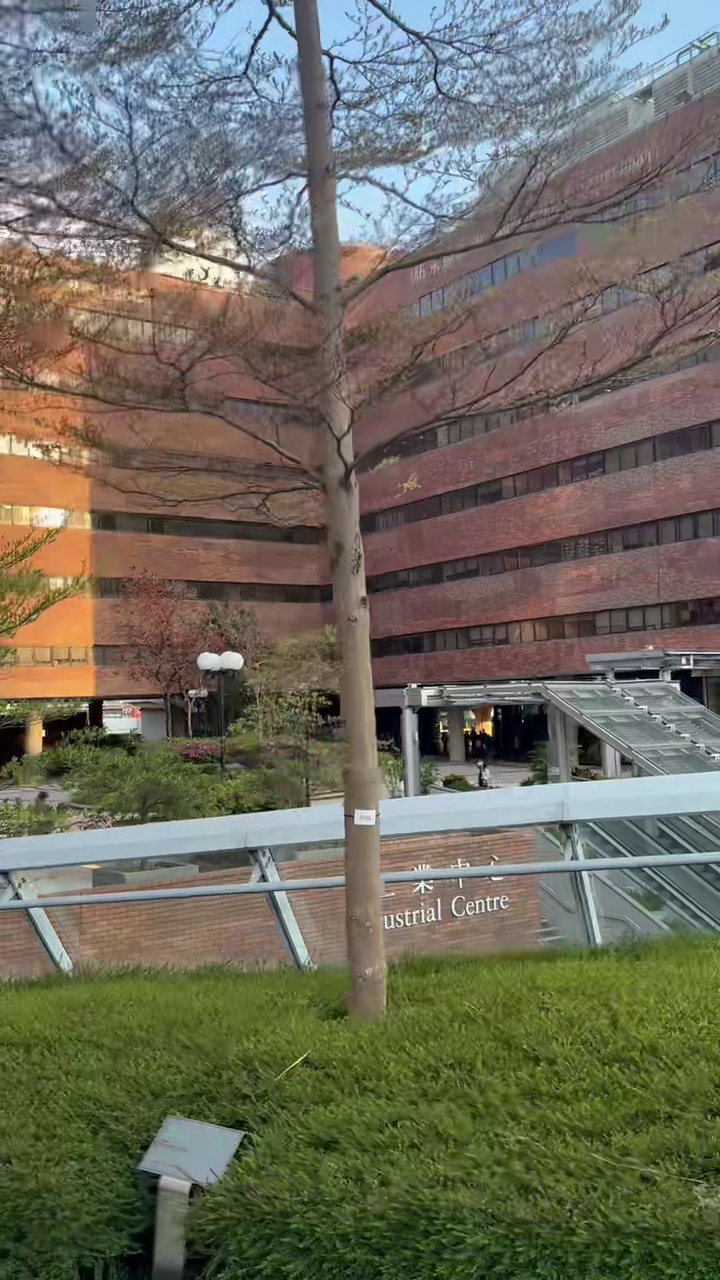Terminalia mantaly: (0, 0, 655, 1018)
